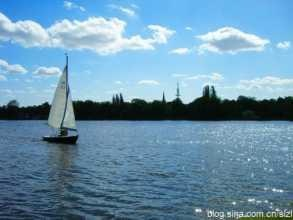fanchuan: (42, 54, 87, 145)
